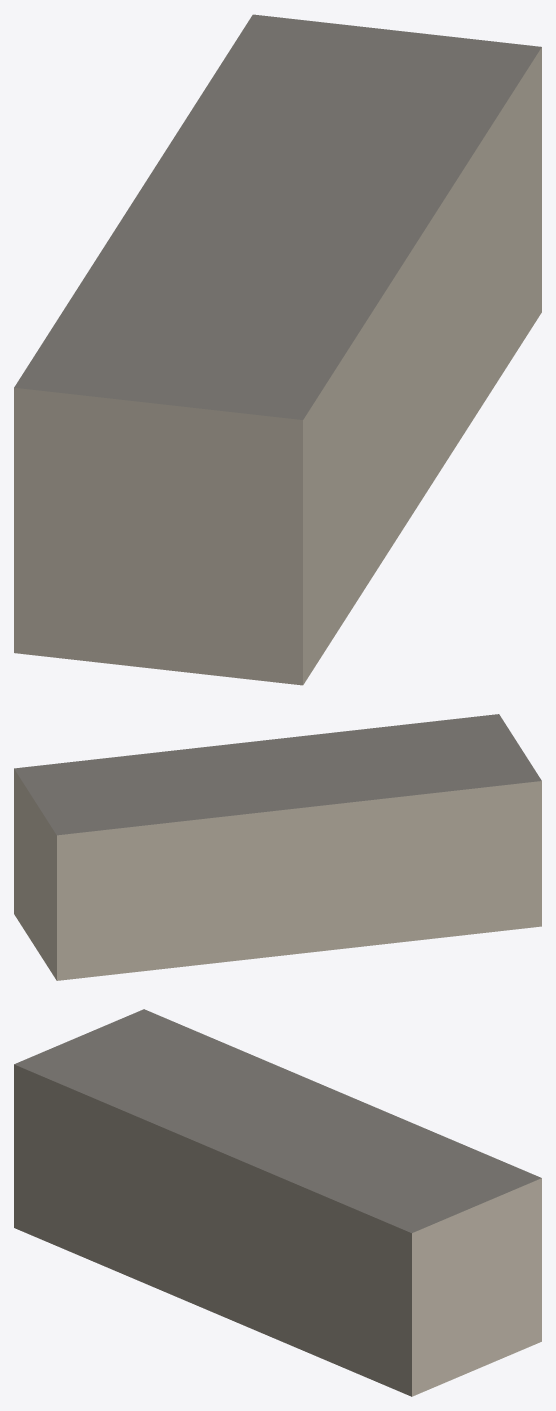
The picture shows the model from 3 angles, top to bottom: view 1: azimuth 30°, elevation 25°; view 2: azimuth 150°, elevation 25°; view 3: azimuth 270°, elevation 25°; orthographic projection. The views are drawn at different scales.
Visible parts, largest first — view 1: HP-w859488704; view 2: HP-w859488704; view 3: HP-w859488704.
Boxes of the visible parts, bbox=[...] form: HP-w859488704: bbox=[14, 14, 541, 685]; HP-w859488704: bbox=[14, 714, 541, 980]; HP-w859488704: bbox=[14, 1009, 541, 1396].
Size of the model in its own units: 52.9 by 18 by 52.65.
